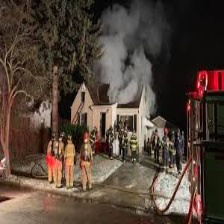smoke: (100, 21, 155, 110)
